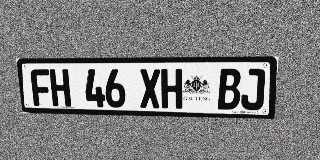4: (84, 69, 106, 107)
6: (104, 69, 126, 108)
B: (218, 69, 241, 110)
F: (30, 69, 52, 106)
H: (161, 69, 182, 109), (49, 69, 71, 107)
J: (240, 69, 265, 110)
X: (139, 69, 161, 108)
